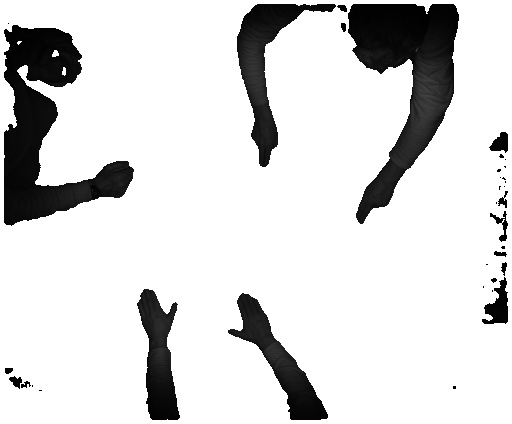fist: (97, 160, 135, 199)
hand: (224, 288, 276, 345), (136, 288, 183, 346), (352, 175, 397, 223), (249, 118, 279, 167)
